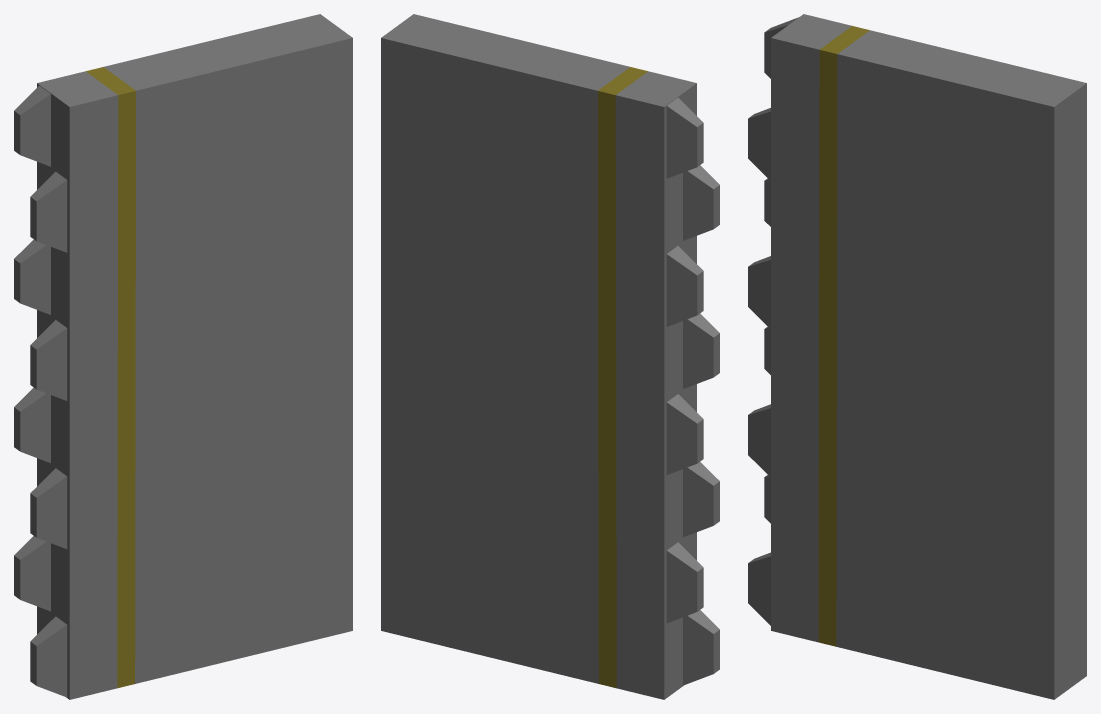
File: Metal Kapı.fbx
3 renders of one model, left to right at view 1: azimuth 30°, elevation 25°; view 2: azimuth 150°, elevation 25°; view 3: azimuth 330°, elevation 25°, orthographic.
Visible parts, largest first — view 1: Cube; view 2: Cube; view 3: Cube.
Boxes of the visible parts, x1,y1,x2,y2 form: Cube: (14,14,352,699); Cube: (381,14,719,699); Cube: (748,14,1086,699).
Bounding box in the file's own units: 1.1 × 2 × 0.2.
